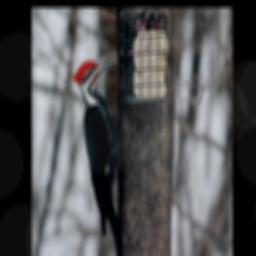Woodpecker: (73, 56, 138, 256)
